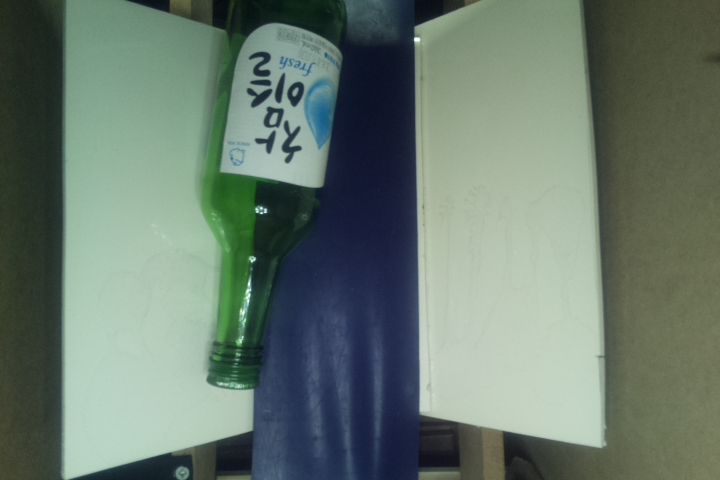soju: (201, 1, 352, 395)
